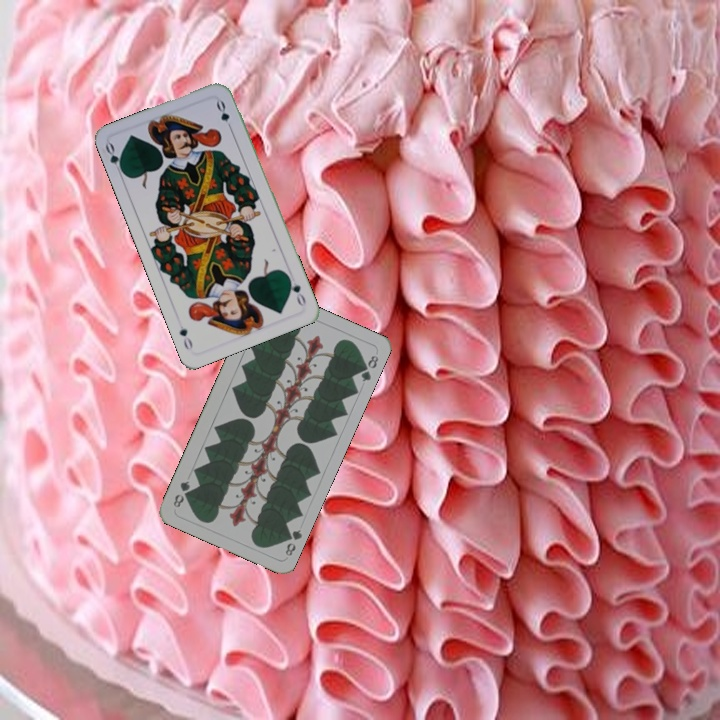G8: (280, 525, 305, 559)
GO: (101, 139, 127, 179), (284, 271, 308, 309)
